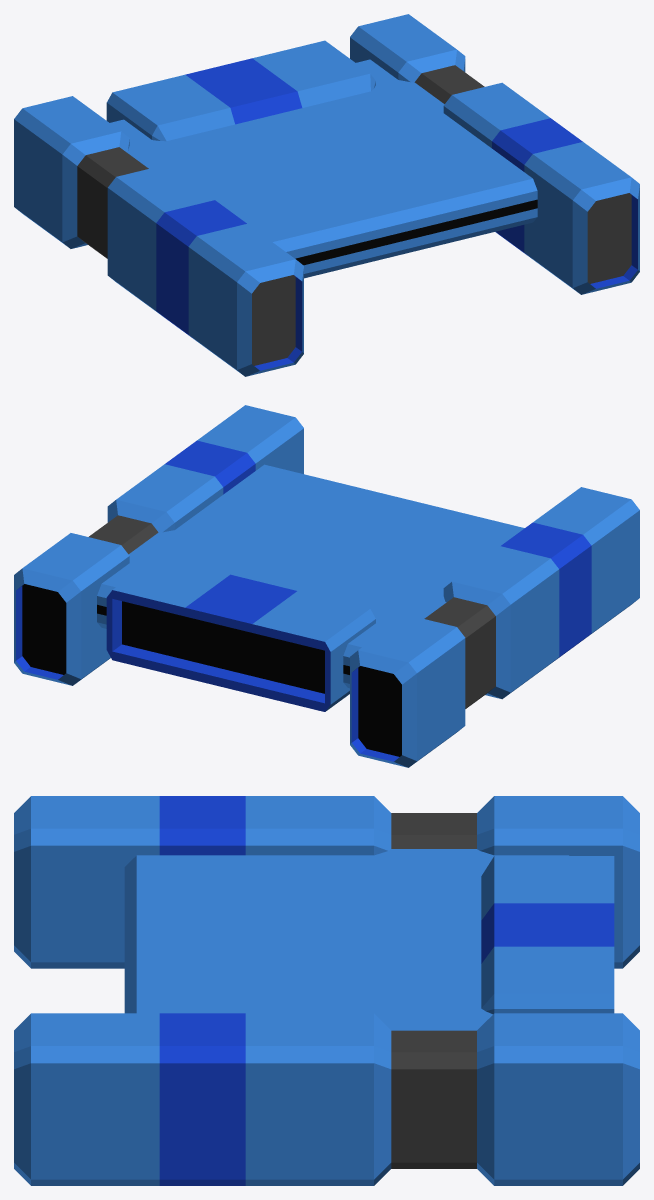
The model's file is robo.FBX.
3 views of the same model, one above another, from view 1: azimuth 30°, elevation 25°; view 2: azimuth 150°, elevation 25°; view 3: azimuth 270°, elevation 25° (orthographic). The views are drawn at different scales.
Parts seen in each view (by area): view 1: VIFS003, VIFS001, VIFS002, VIFS005; view 2: VIFS003, VIFS001, VIFS004, VIFS002; view 3: VIFS003, VIFS001, VIFS002.
Part boxes in pixels (x1,y1,x2,y2): VIFS003: [14, 14, 639, 376]; VIFS001: [156, 58, 637, 370]; VIFS002: [77, 65, 631, 365]; VIFS005: [295, 199, 537, 265]; VIFS003: [14, 405, 639, 767]; VIFS001: [16, 440, 591, 761]; VIFS004: [22, 584, 401, 756]; VIFS002: [89, 515, 495, 708]; VIFS003: [14, 796, 639, 1185]; VIFS001: [159, 796, 614, 1185]; VIFS002: [391, 813, 476, 1168].
Bounding box in the file's own units: 1.44 × 0.36 × 1.46.
